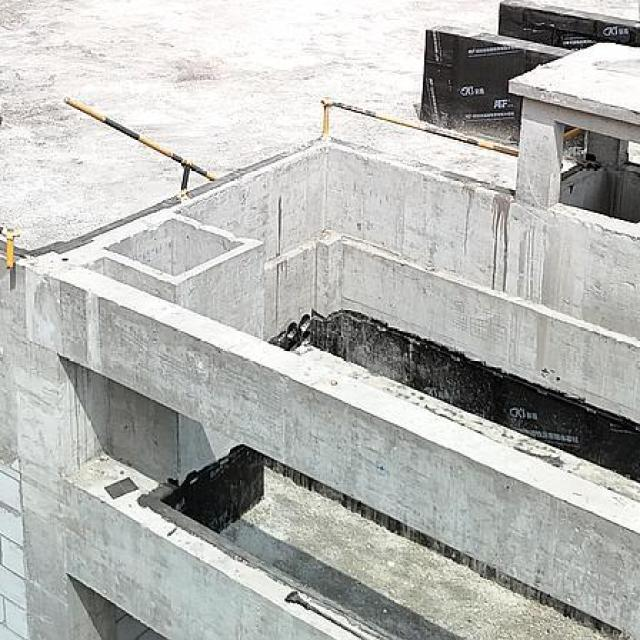edge_guardrail: (320, 96, 586, 157), (61, 96, 216, 196), (0, 224, 20, 270)
